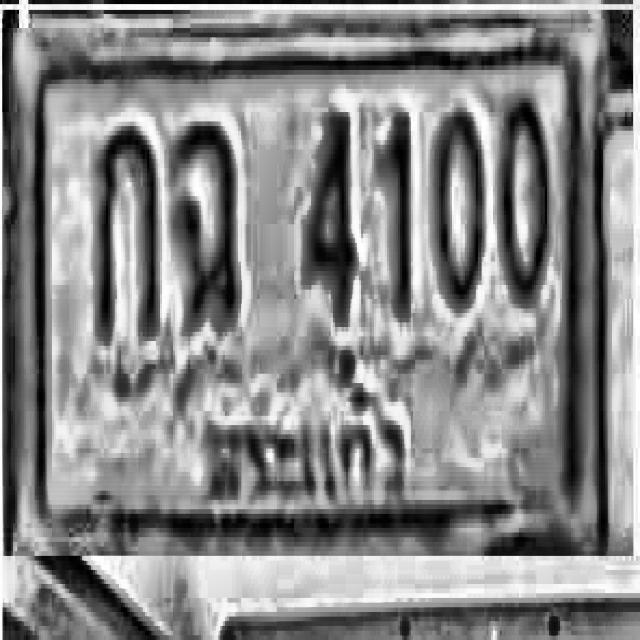license-plate: (14, 0, 615, 550)
